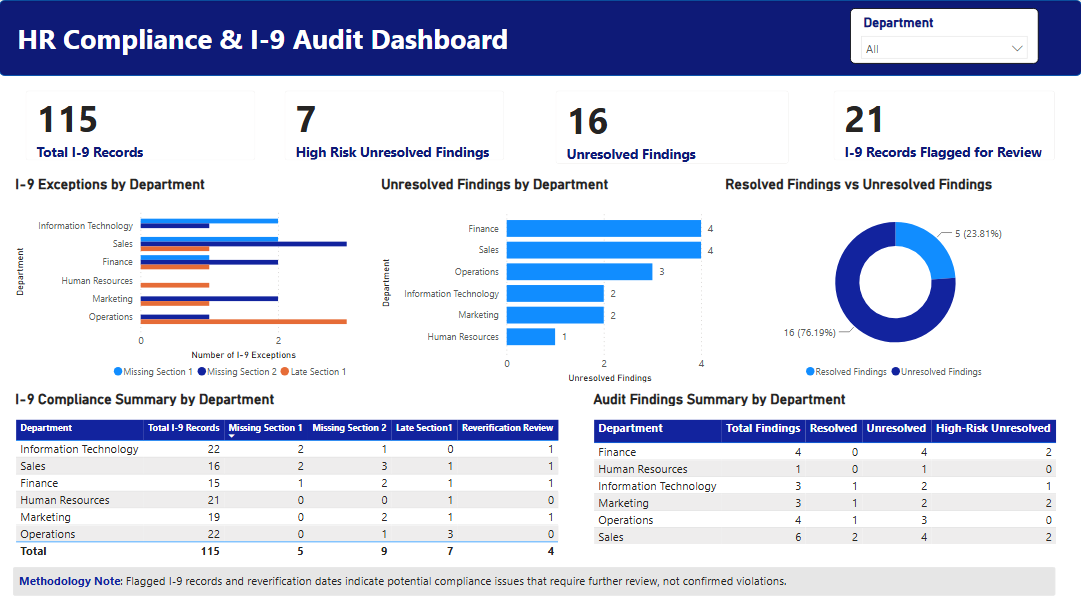

What the dashboard file says about the page in this screenshot:
{"tool":"powerbi","page":{"name":"Page 1","canvas":[1280,720],"ordinal":0},"visuals":[{"type":"cardVisual","fields":{"Data":["Sum(i9_department_audit.total_i9_records)"]},"box":[14.2,89.8,306.1,117],"z":0},{"type":"cardVisual","fields":{"Data":["Sum(i9_flagged_by_department.flagged_i9_records)"]},"box":[969.2,89.8,296.7,117],"z":1000},{"type":"cardVisual","fields":{"Data":["Sum(audit_findings_summary.high_risk_unresolved)"]},"box":[320.3,89.8,294.3,117],"z":2000},{"type":"cardVisual","fields":{"Data":["Sum(audit_findings_summary.unresolved_findings)"]},"box":[640.6,89.8,310.8,121.7],"z":3000},{"type":"clusteredBarChart","title":"I-9 Exceptions by Department","fields":{"Category":["i9_department_audit.department"],"Y":["Sum(i9_department_audit.missing_section1)","Sum(i9_department_audit.missing_section2)","Sum(i9_department_audit.late_section1)"]},"box":[14.2,206.8,405.9,250],"z":4000},{"type":"clusteredBarChart","fields":{"Category":["audit_findings_summary.department"],"Y":["Sum(audit_findings_summary.unresolved_findings)"]},"box":[446.8,206.8,407,250],"z":5000},{"type":"donutChart","title":"Resolved Findings vs Unresolved Findings","fields":{"Y":["Sum(audit_findings_summary.resolved_findings)","Sum(audit_findings_summary.unresolved_findings)"]},"box":[853.3,206.8,412.3,250],"z":6000},{"type":"tableEx","title":"I-9 Compliance Summary by Department","fields":{"Values":["i9_department_audit.department","Sum(i9_department_audit.total_i9_records)","Sum(i9_department_audit.missing_section1)","Sum(i9_department_audit.missing_section2)","Sum(i9_department_audit.late_section1)","Sum(i9_department_audit.potential_overdue_reverification)"]},"box":[14.2,460.9,659.5,209.2],"z":7000},{"type":"tableEx","title":"Audit Findings Summary by Department","fields":{"Values":["audit_findings_summary.department","Sum(audit_findings_summary.total_findings)","Sum(audit_findings_summary.resolved_findings)","Sum(audit_findings_summary.unresolved_findings)","Sum(audit_findings_summary.high_risk_unresolved)"]},"box":[697.3,460.9,568.5,209.2],"z":8000},{"type":"shape","box":[0,0,1280,89.8],"z":9000},{"type":"textbox","box":[16.5,17.7,606.3,57.9],"z":10000},{"type":"slicer","fields":{"Values":["i9_department_audit.department"]},"box":[1005.8,9.5,223.4,66.2],"z":11000},{"type":"textbox","box":[16.5,670.1,1231.5,34.3],"z":12000}]}

Visuals, with their boxes in screenshot pixels (x1, y1, x2, y2), scaled from the page's 1280x720 canvas onto the 1081x608 screenshot:
cardVisual - Sum(i9_department_audit.total_i9_records): x1=12 y1=76 x2=271 y2=175
cardVisual - Sum(i9_flagged_by_department.flagged_i9_records): x1=819 y1=76 x2=1069 y2=175
cardVisual - Sum(audit_findings_summary.high_risk_unresolved): x1=271 y1=76 x2=519 y2=175
cardVisual - Sum(audit_findings_summary.unresolved_findings): x1=541 y1=76 x2=803 y2=179
"I-9 Exceptions by Department" clusteredBarChart: x1=12 y1=175 x2=355 y2=386
clusteredBarChart - audit_findings_summary.department x Sum(audit_findings_summary.unresolved_findings): x1=377 y1=175 x2=721 y2=386
"Resolved Findings vs Unresolved Findings" donutChart: x1=721 y1=175 x2=1069 y2=386
"I-9 Compliance Summary by Department" tableEx: x1=12 y1=389 x2=569 y2=566
"Audit Findings Summary by Department" tableEx: x1=589 y1=389 x2=1069 y2=566
shape: x1=0 y1=0 x2=1080 y2=76
textbox: x1=14 y1=15 x2=526 y2=64
slicer - i9_department_audit.department: x1=849 y1=8 x2=1038 y2=64
textbox: x1=14 y1=566 x2=1054 y2=595
